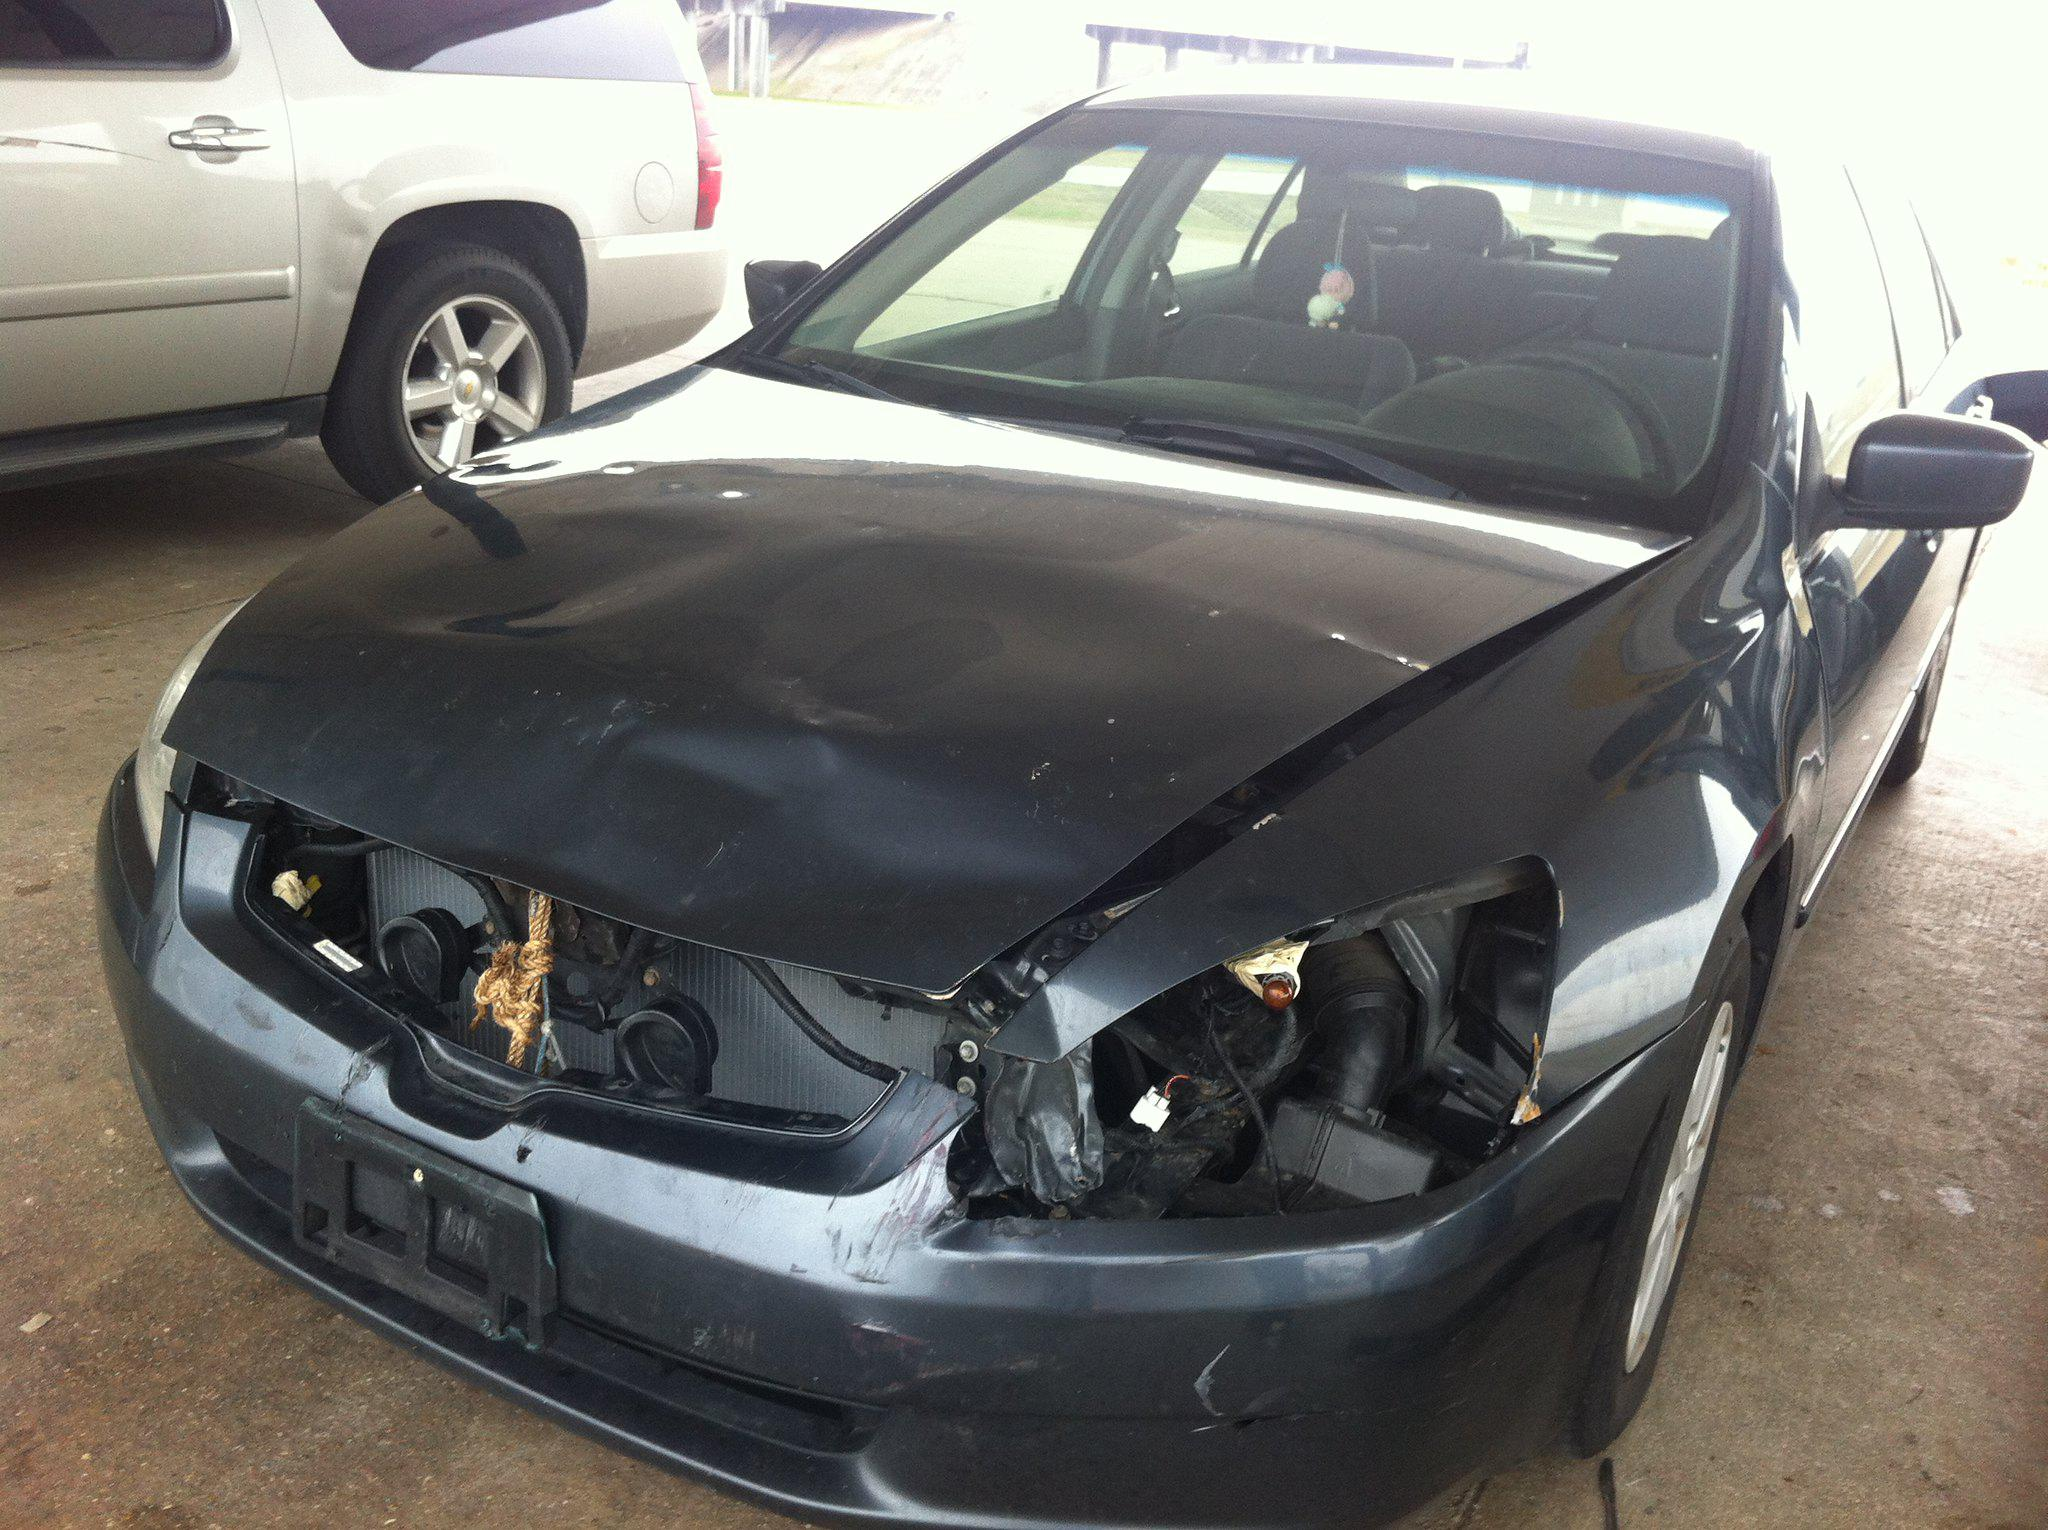Headlight-Damage: (908, 869, 1633, 1271)
bonnet-dent: (201, 452, 1334, 1009)
front-bumper-dent: (449, 1122, 1588, 1527)
